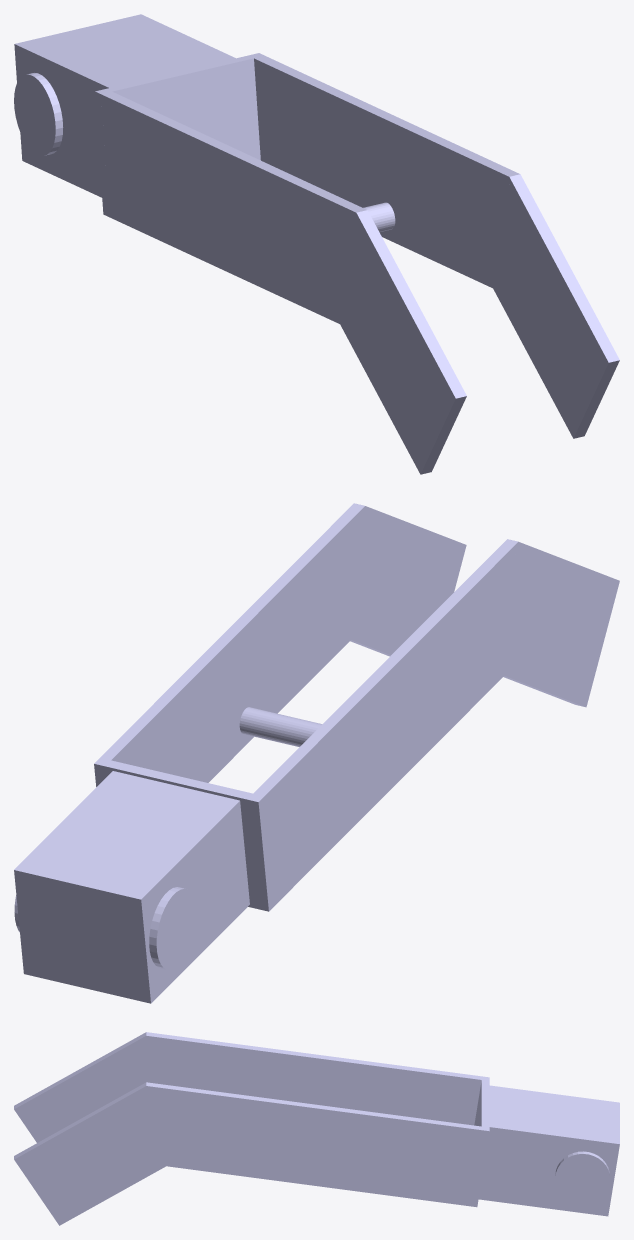
The model's file is dbAlpha_URDF_Leg_Thorax_Right_Link2__109__.dae.
3 renders of one model, top to bottom at view 1: azimuth 30°, elevation 25°; view 2: azimuth 150°, elevation 25°; view 3: azimuth 270°, elevation 25°, orthographic. The views are drawn at different scales.
Parts seen in each view (by area): view 1: Node_0x7f7afcf8cba0 (×7); view 2: Node_0x7f7afcf8cba0 (×8); view 3: Node_0x7f7afcf8cba0 (×7).
Boxes of the visible parts, bbox=[...] form: Node_0x7f7afcf8cba0 (×7): bbox=[14, 14, 619, 474]; Node_0x7f7afcf8cba0 (×8): bbox=[14, 503, 619, 1003]; Node_0x7f7afcf8cba0 (×7): bbox=[14, 1032, 619, 1225].
Size of the model in its own units: 0.0445 by 0.055 by 0.2134.
